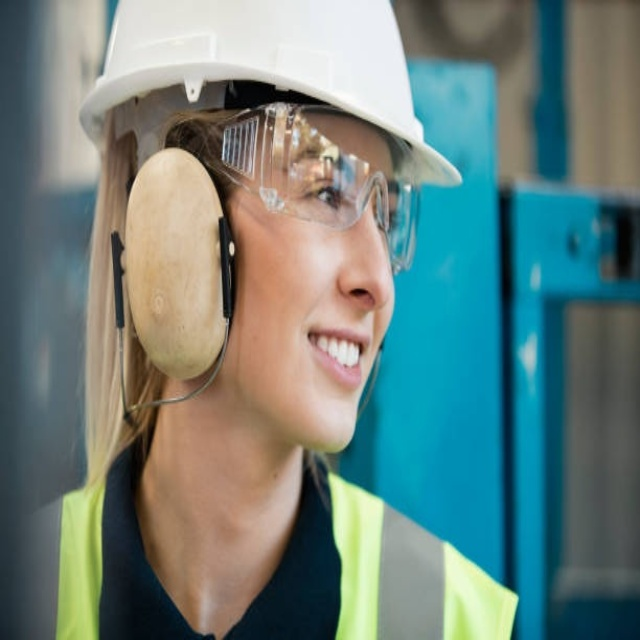Gafas: (207, 107, 421, 281)
Sin_mascara: (289, 317, 380, 428)
